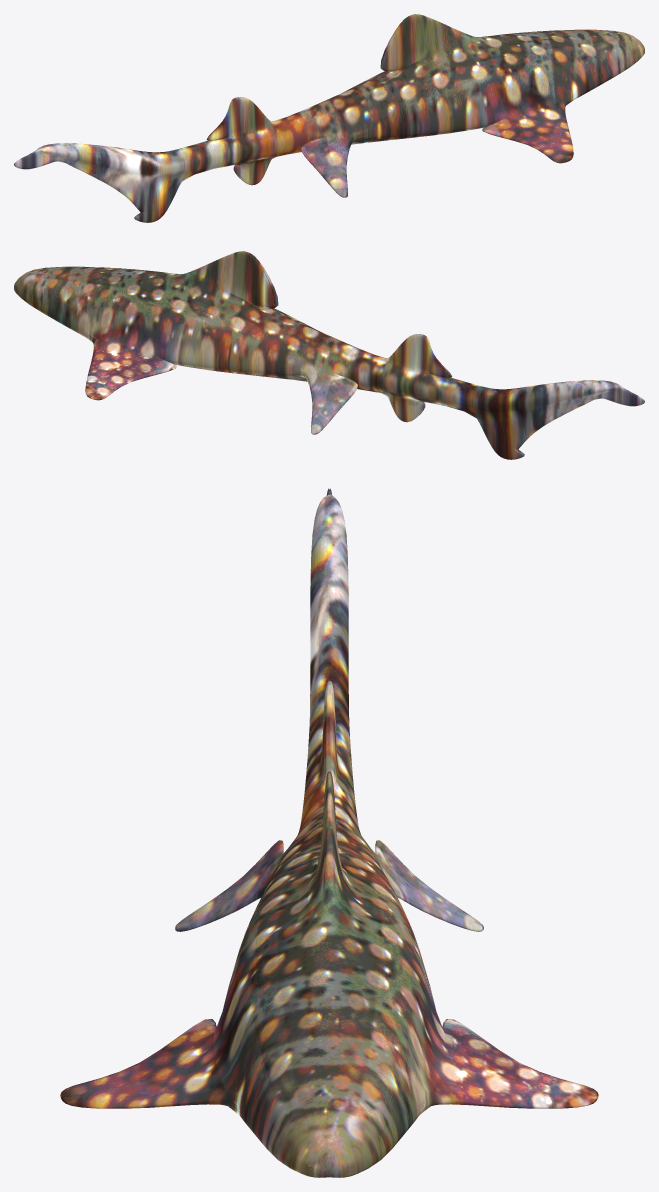
Rendered from leopard_shark.glb.
The picture shows the model from 3 angles, top to bottom: view 1: azimuth 30°, elevation 25°; view 2: azimuth 150°, elevation 25°; view 3: azimuth 270°, elevation 25°; orthographic projection. The views are drawn at different scales.
Visible parts, largest first — view 1: Sphere001__0; view 2: Sphere001__0; view 3: Sphere001__0.
Boxes of the visible parts, x1,y1,x2,y2 form: Sphere001__0: (14,14,644,222); Sphere001__0: (14,251,644,459); Sphere001__0: (60,488,598,1177).
Size of the model in its own units: 10.84 by 2.36 by 4.01.
Materials: 1 (1 with a texture image).
